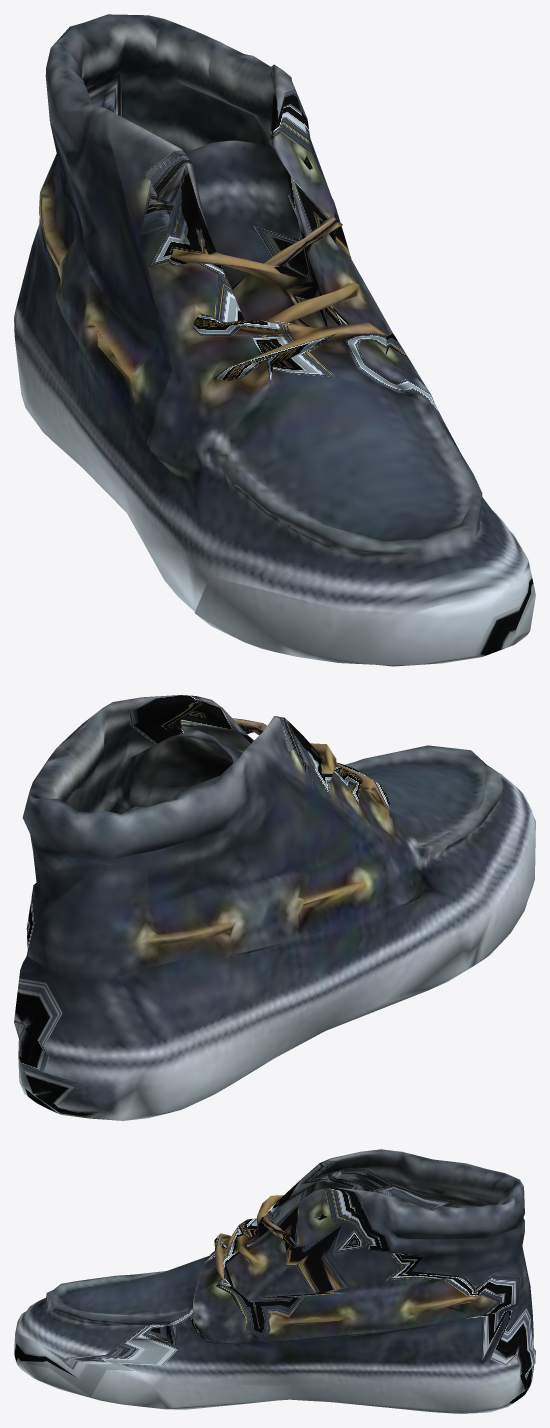
Rendered from gso_womens_betty_chukka_boot_in_navy_aee8oqvmii4.glb.
3 renders of one model, top to bottom at view 1: azimuth 30°, elevation 25°; view 2: azimuth 150°, elevation 25°; view 3: azimuth 270°, elevation 25°, orthographic. The views are drawn at different scales.
Visible parts, largest first — view 1: z-up-to-y-up; view 2: z-up-to-y-up; view 3: z-up-to-y-up.
Part boxes in pixels (<box>): z-up-to-y-up: <box>14,14,535,666</box>; z-up-to-y-up: <box>14,695,535,1120</box>; z-up-to-y-up: <box>14,1149,535,1413</box>.
Bounding box in the file's own units: 0.0909 × 0.1126 × 0.2464.
Materials: 1 (1 with a texture image).
